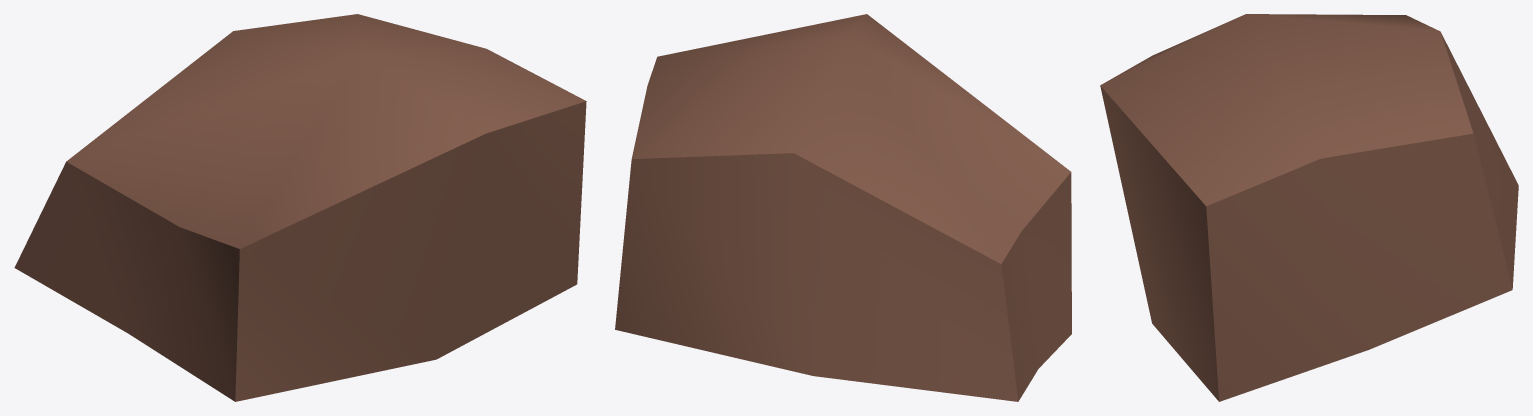
The model's file is cozy_lake_stone1_01.glb.
3 renders of one model, left to right at view 1: azimuth 30°, elevation 25°; view 2: azimuth 150°, elevation 25°; view 3: azimuth 270°, elevation 25°, orthographic. The views are drawn at different scales.
Visible parts, largest first — view 1: Stone1_01; view 2: Stone1_01; view 3: Stone1_01.
Part boxes in pixels (x1=…): Stone1_01: x1=14, y1=14, x2=586, y2=401; Stone1_01: x1=615, y1=14, x2=1071, y2=401; Stone1_01: x1=1100, y1=14, x2=1518, y2=401.
Bounding box in the file's own units: 47.34 × 27.5 × 35.43.
